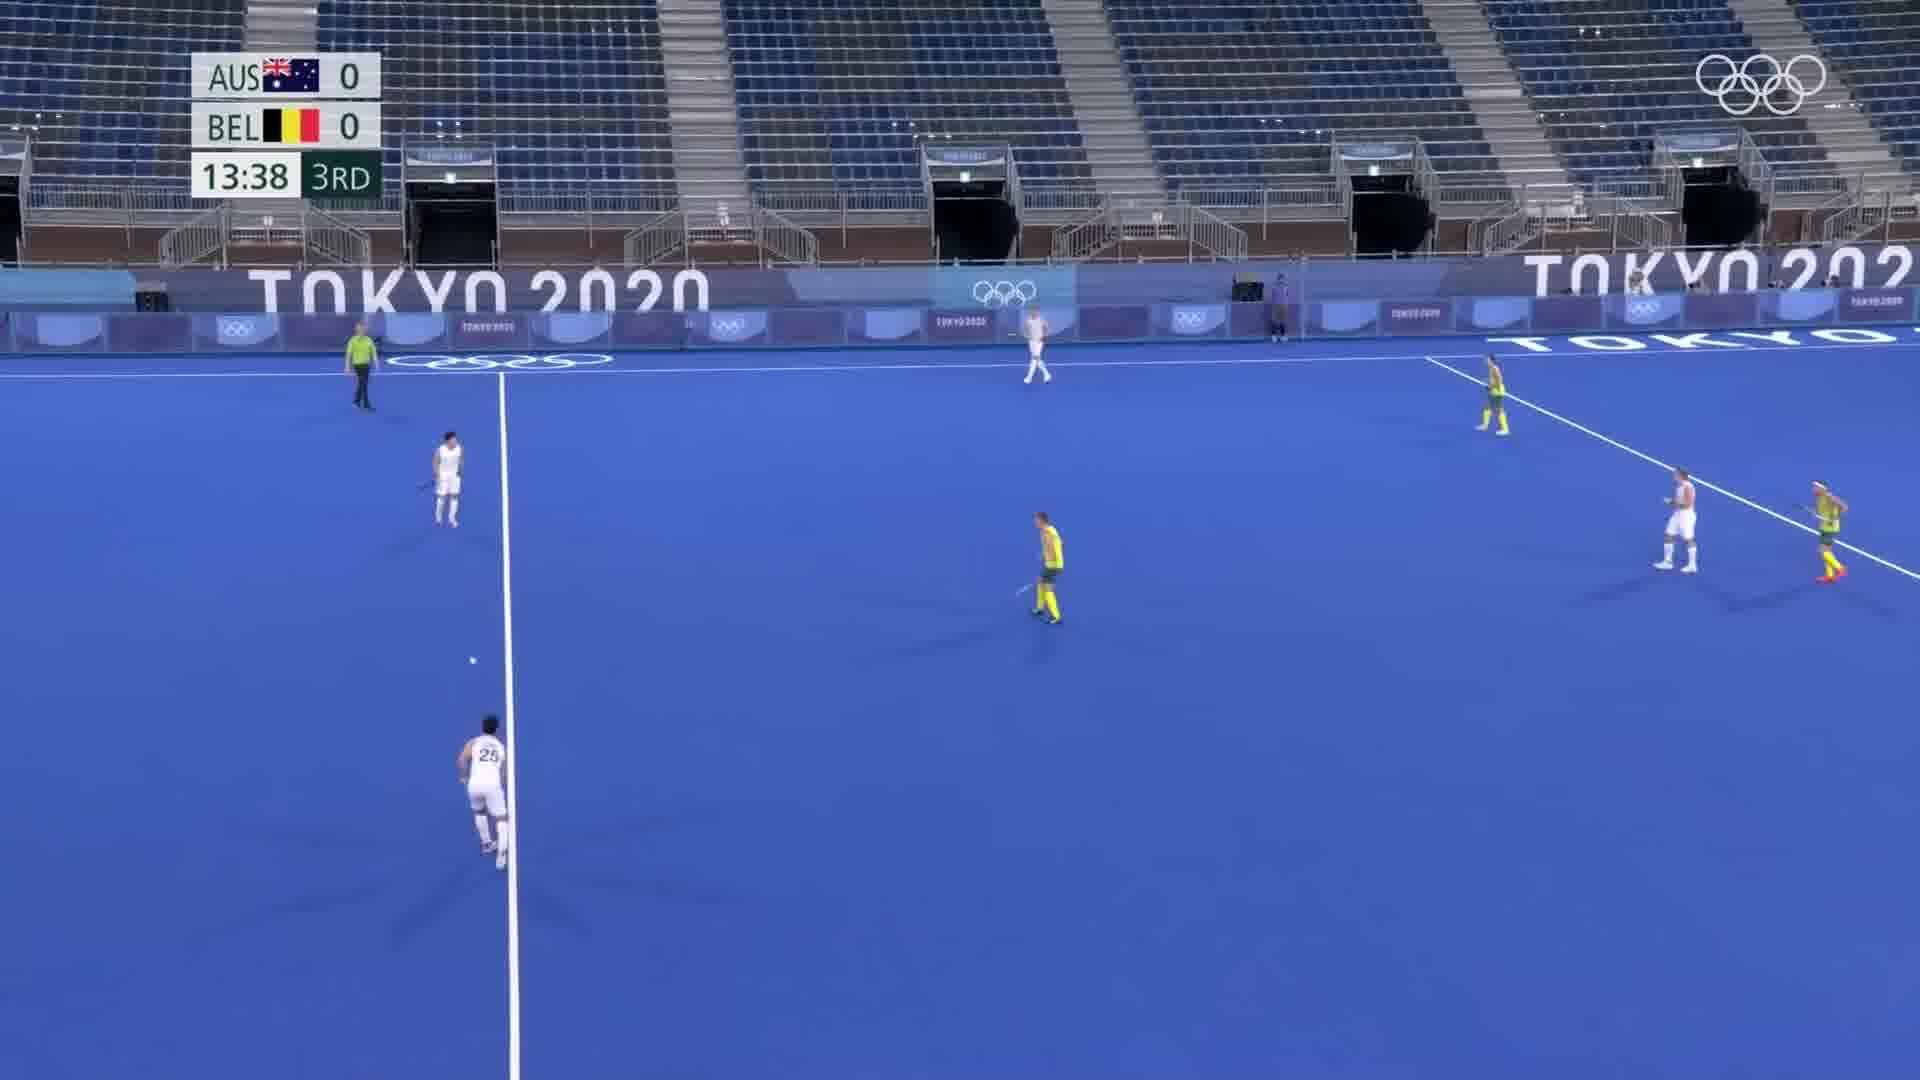ball: (464, 653, 480, 665)
